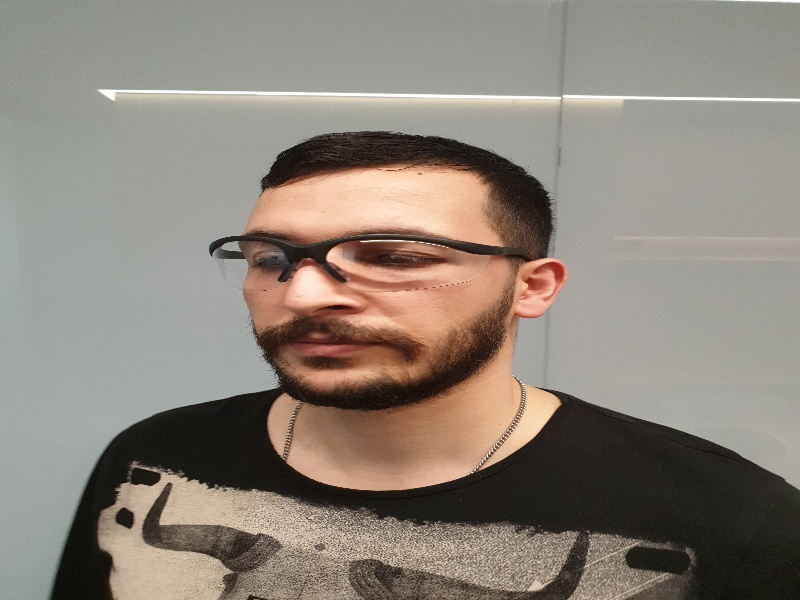Gozluk: (210, 231, 540, 289)
